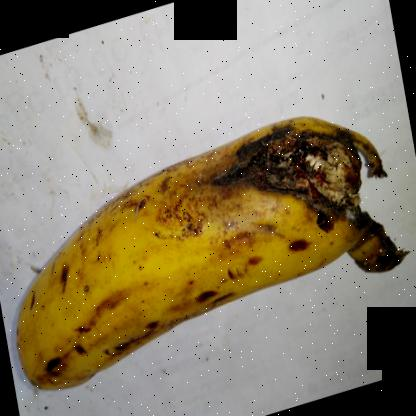rotten: (212, 98, 392, 285)
